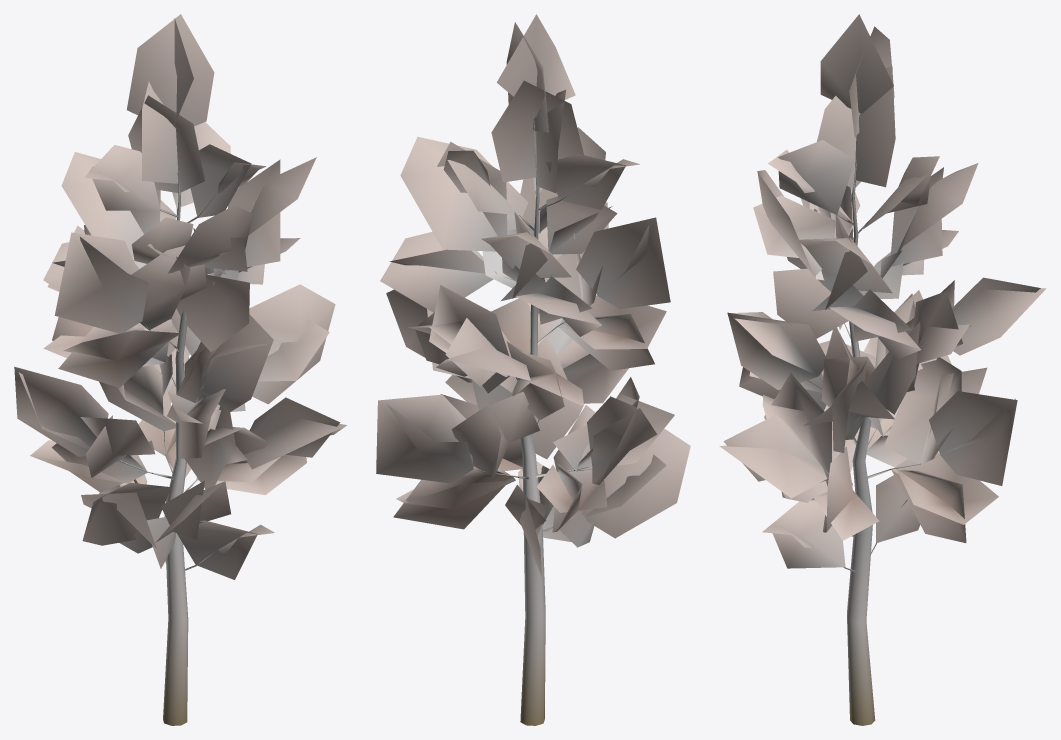
Rendered from tree_autumn.fbx.
3 renders of one model, left to right at view 1: azimuth 30°, elevation 25°; view 2: azimuth 150°, elevation 25°; view 3: azimuth 270°, elevation 25°, orthographic.
Visible parts, largest first — view 1: TreeAspen01_1:1, TreeAspen01_1:0; view 2: TreeAspen01_1:1, TreeAspen01_1:0; view 3: TreeAspen01_1:1, TreeAspen01_1:0.
Boxes of the visible parts, left/top/right/bottom form: TreeAspen01_1:1: left=14, top=14, right=347, bottom=579; TreeAspen01_1:0: left=118, top=172, right=222, bottom=725; TreeAspen01_1:1: left=376, top=14, right=690, bottom=576; TreeAspen01_1:0: left=475, top=116, right=595, bottom=725; TreeAspen01_1:1: left=719, top=14, right=1046, bottom=568; TreeAspen01_1:0: left=820, top=160, right=937, bottom=725.
Size of the model in its own units: 61760 by 145522 by 61244.
